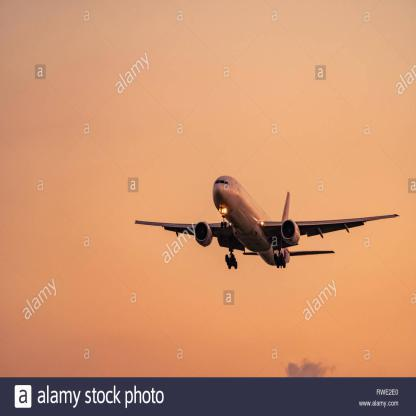CIV_Plane: (129, 167, 407, 274)
